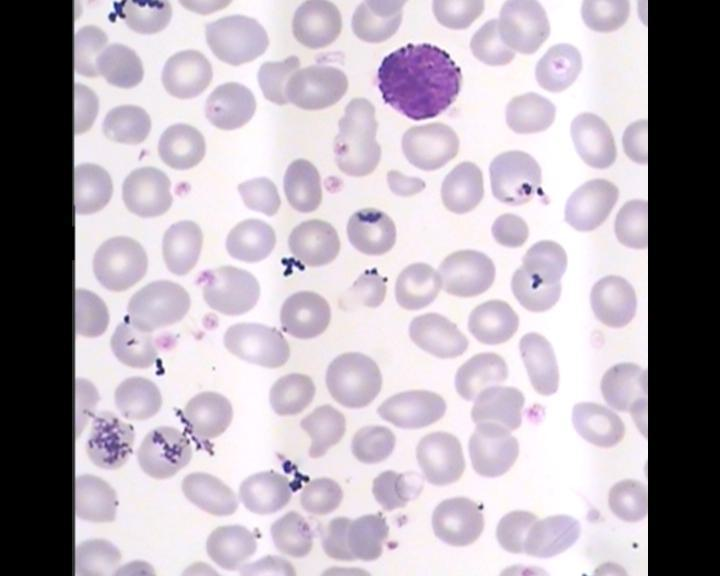baso: (373, 37, 464, 119)
